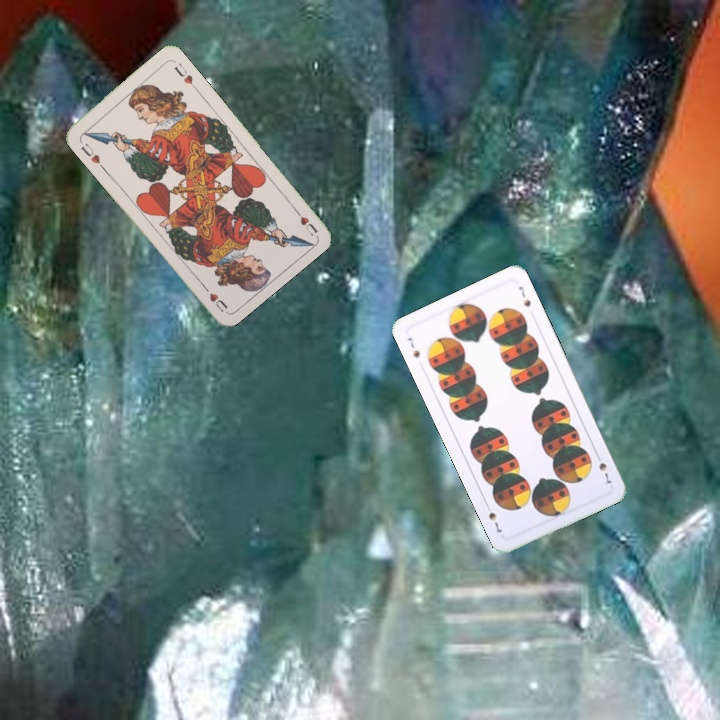HU: (289, 203, 321, 238), (77, 140, 106, 170)
S7: (592, 449, 614, 487), (403, 333, 422, 360)
